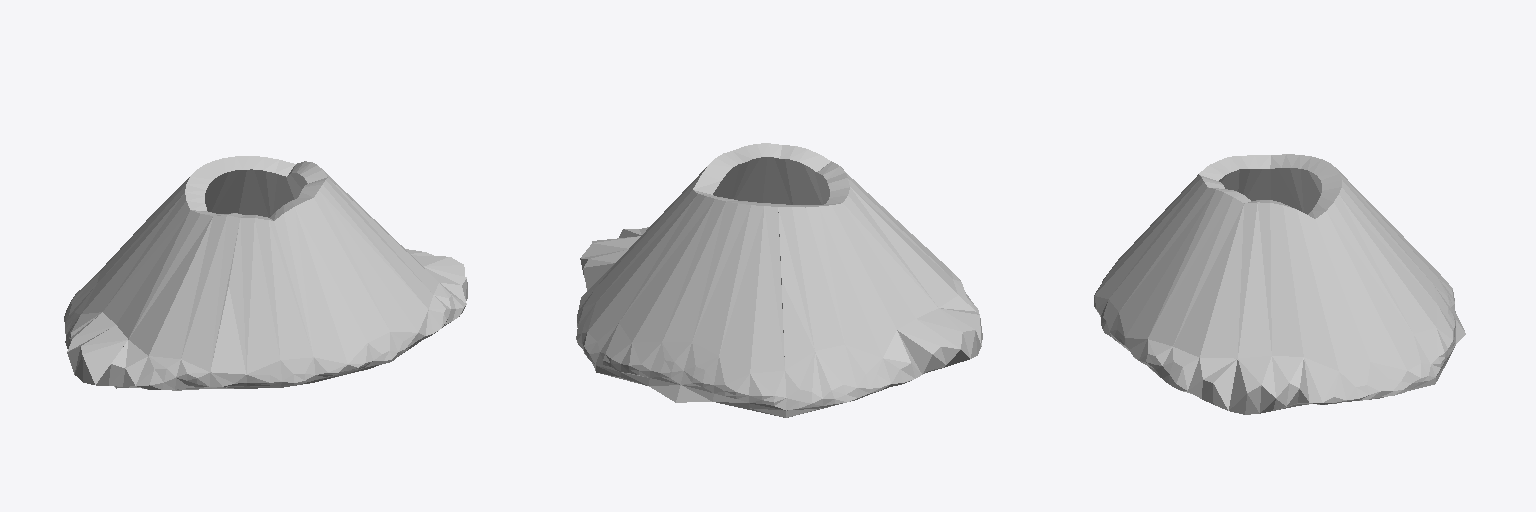
File: volcanov1.obj
3 views of the same model, side by side, from view 1: azimuth 30°, elevation 25°; view 2: azimuth 150°, elevation 25°; view 3: azimuth 270°, elevation 25° (orthographic).
Visible parts, largest first — view 1: Cone; view 2: Cone; view 3: Cone.
Boxes of the visible parts, box(x1,y1,x2,y2) form: Cone: box(64, 156, 467, 390); Cone: box(576, 143, 982, 417); Cone: box(1094, 154, 1465, 414).
Bounding box in the file's own units: 22.19 × 9.11 × 18.64.